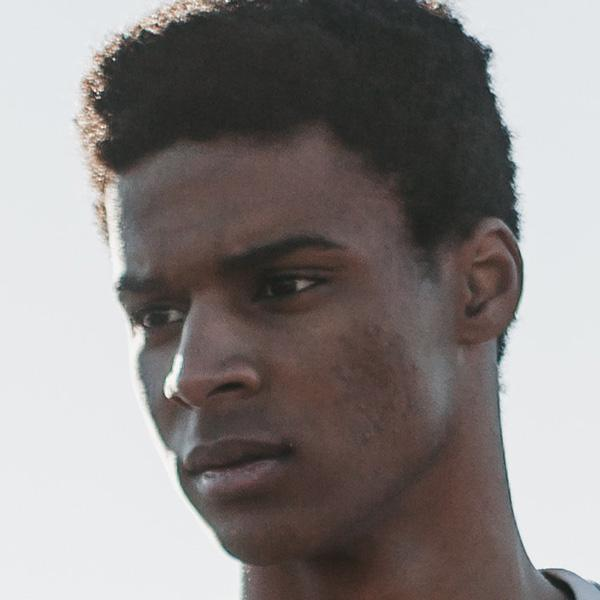Eyes: (246, 256, 340, 312), (127, 287, 197, 344)
